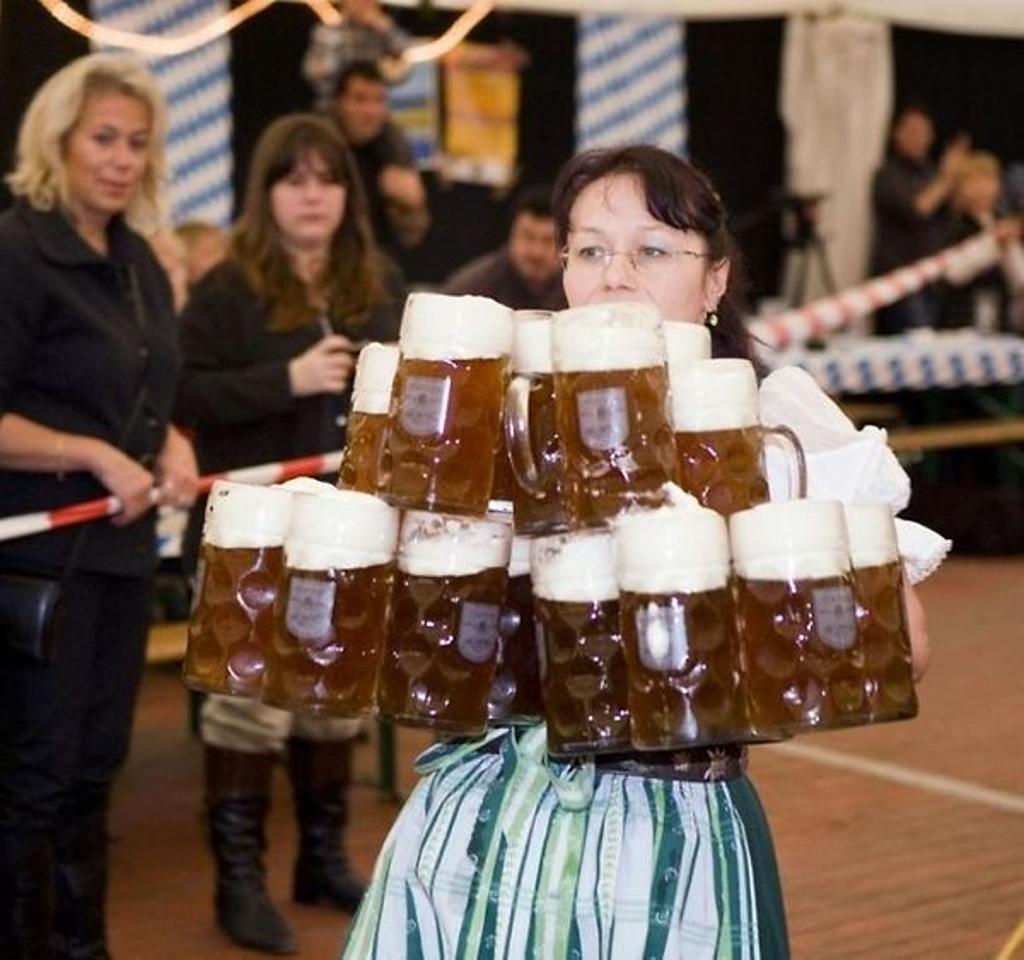face: (561, 207, 705, 348), (89, 107, 151, 213), (269, 161, 345, 241), (509, 221, 564, 280), (344, 87, 385, 144), (961, 170, 998, 208)
